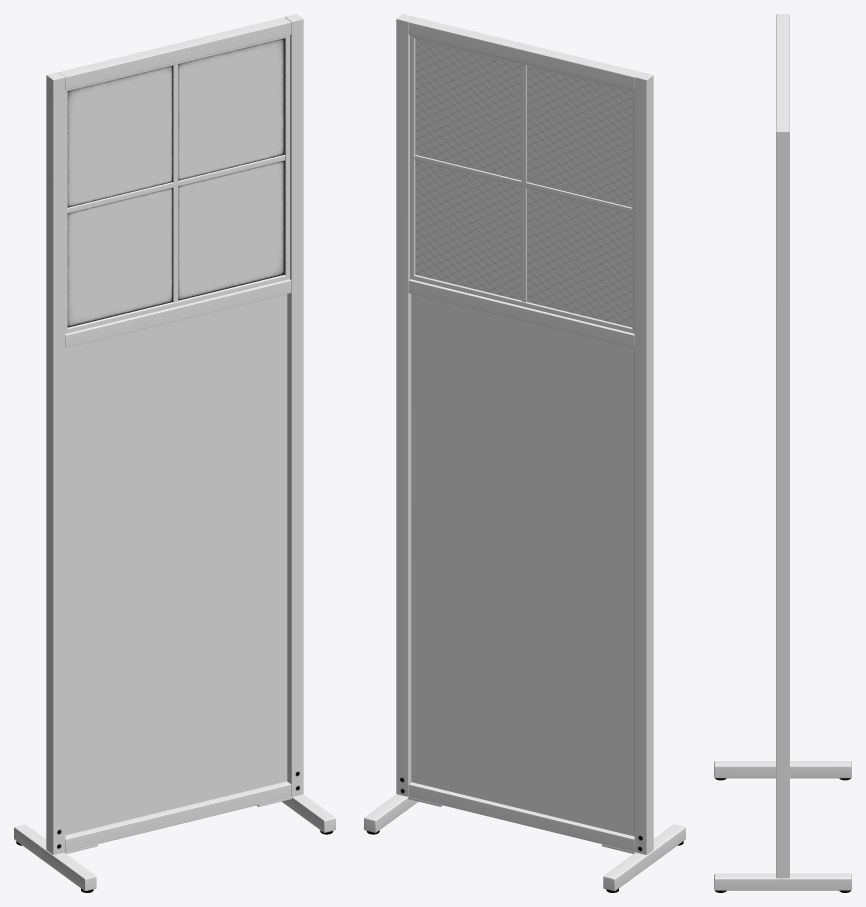
Rendered from MEGA_PACK_door__door-305142_White.glb.
The picture shows the model from 3 angles, left to right: view 1: azimuth 30°, elevation 25°; view 2: azimuth 150°, elevation 25°; view 3: azimuth 270°, elevation 25°; orthographic projection. The views are drawn at different scales.
Visible parts, largest first — view 1: door-305142_White; view 2: door-305142_White; view 3: door-305142_White.
Part boxes in pixels (box(x1,y1,x2,y2)): door-305142_White: box(14, 14, 335, 892); door-305142_White: box(364, 14, 685, 892); door-305142_White: box(714, 14, 851, 892).
Size of the model in its own units: 0.5995 by 1.8 by 0.2953.
1 material, 1 textured.
